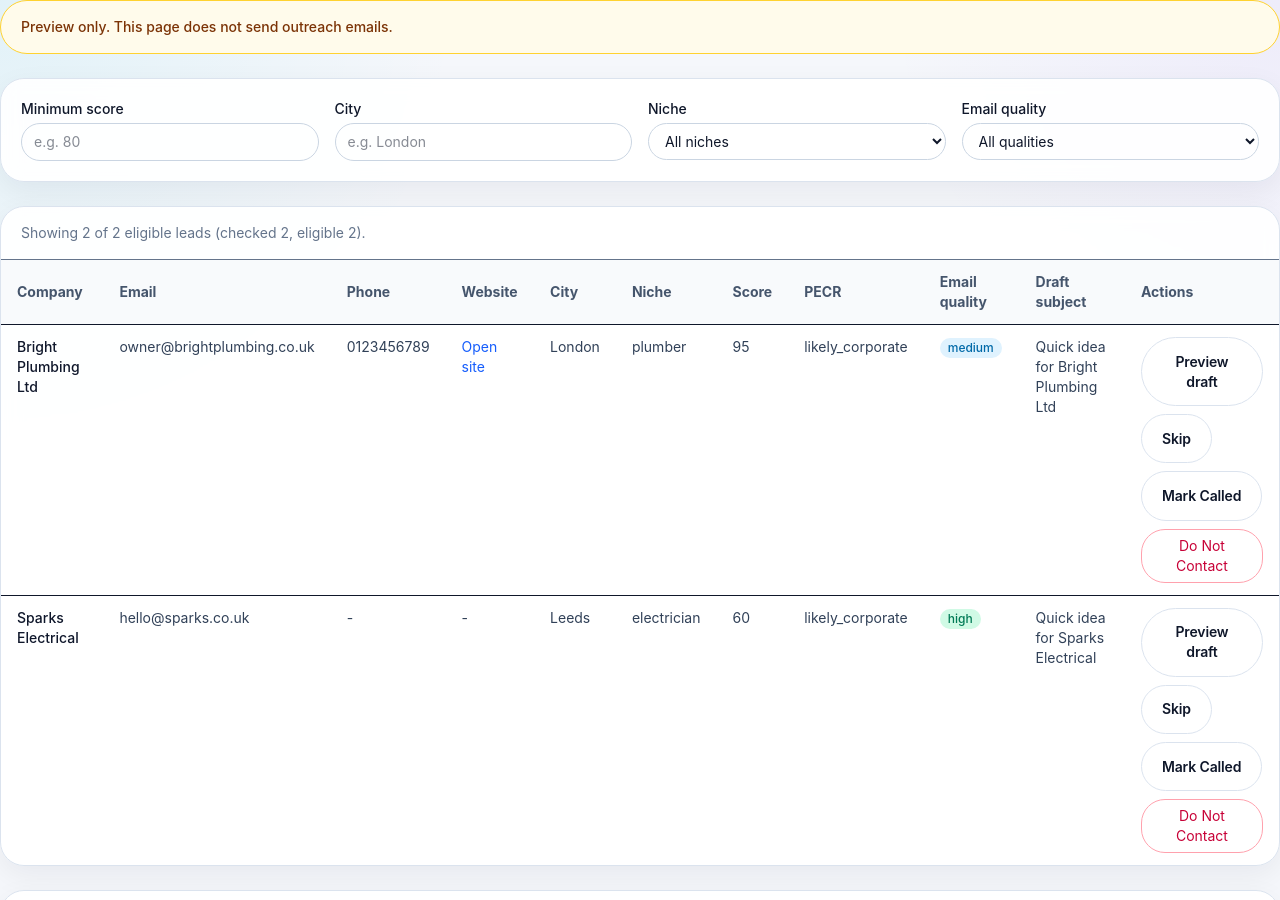
Test: QueueClient › filters by email quality
Expected: the text "Bright Plumbing Ltd" is shown, [1,324,103,595]
Expected: the text "Sparks Electrical" is shown, [1,595,103,865]
Select "high" in the dropdown labelled "Email quality" at (1110, 142), box [962,123,1259,160]
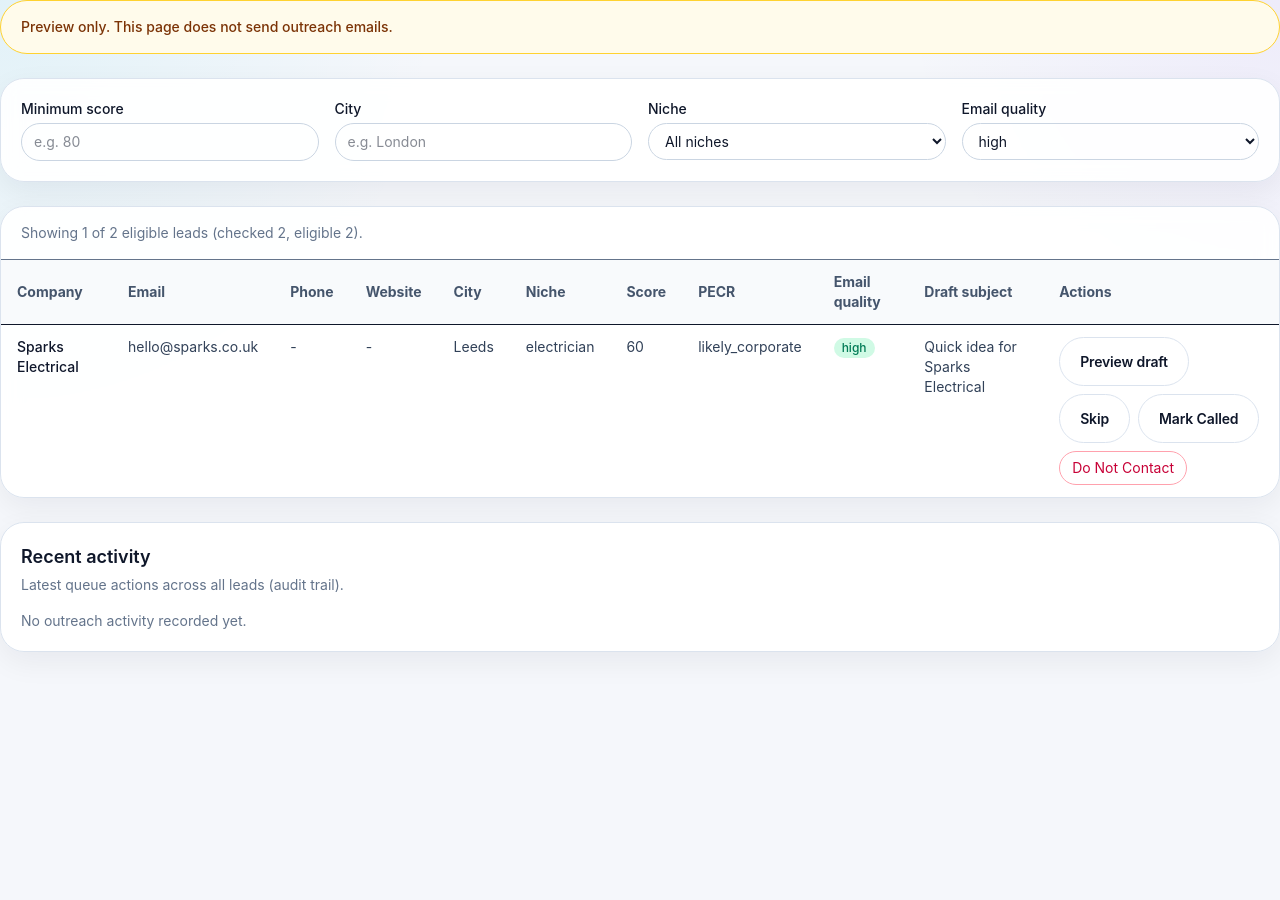
Expected: the text "Sparks Electrical" is shown, [1,324,112,497]
Now the text "Bright Plumbing Ltd" is gone
